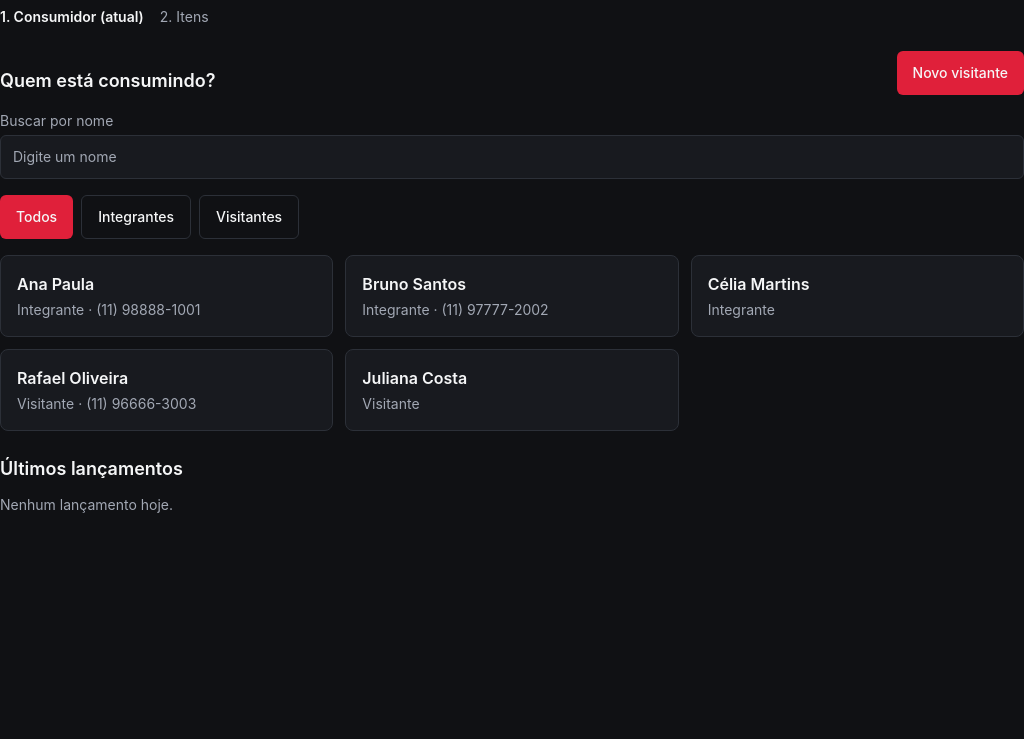
Test case: LaunchScreen registration feedback › warns about insufficient stock without blocking the launch
Click the button "Ana Paula Integrante · (11) 98888-1001": x=56, y=284 x1=0 y1=255 x2=333 y2=337
(page scrolled)
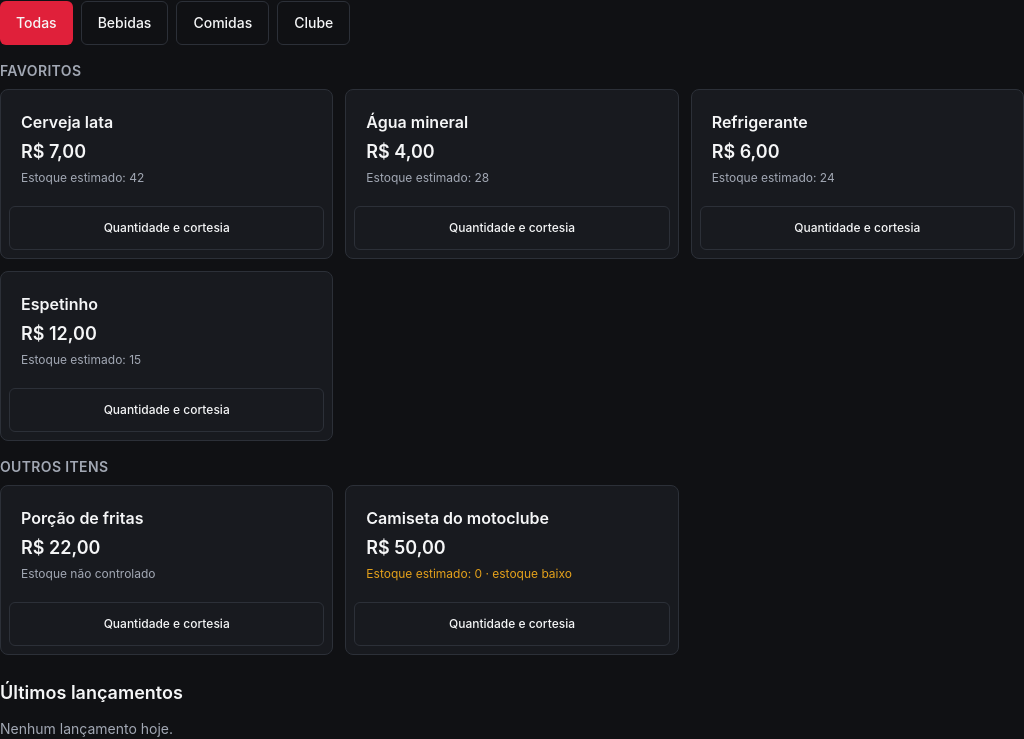
Click the button named "Lançar Camiseta do motoclube": x=458, y=518 x1=354 y1=494 x2=670 y2=594
(page scrolled)
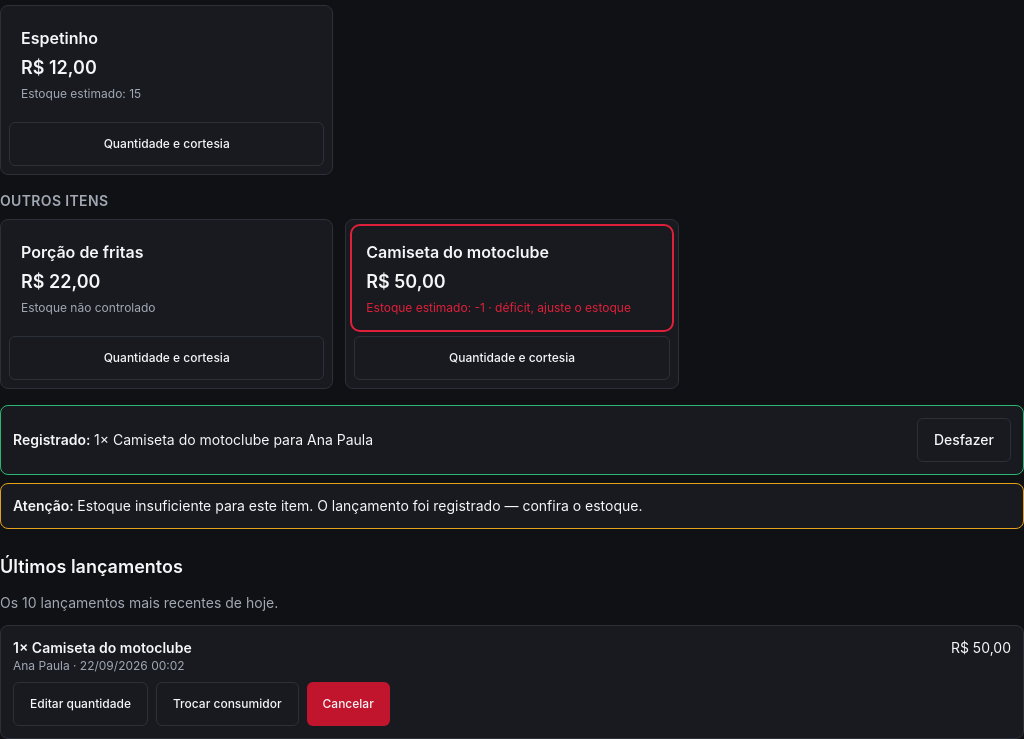
Expected: the message that starts with "Atenção:" shows "Estoque insuficiente para este item. O lançamento foi registrado", x1=77 y1=497 x2=642 y2=514
Expected: the message "Registrado: 1× Camiseta do motoclube para Ana Paula Desfazer" is shown, x1=0 y1=405 x2=1023 y2=475
